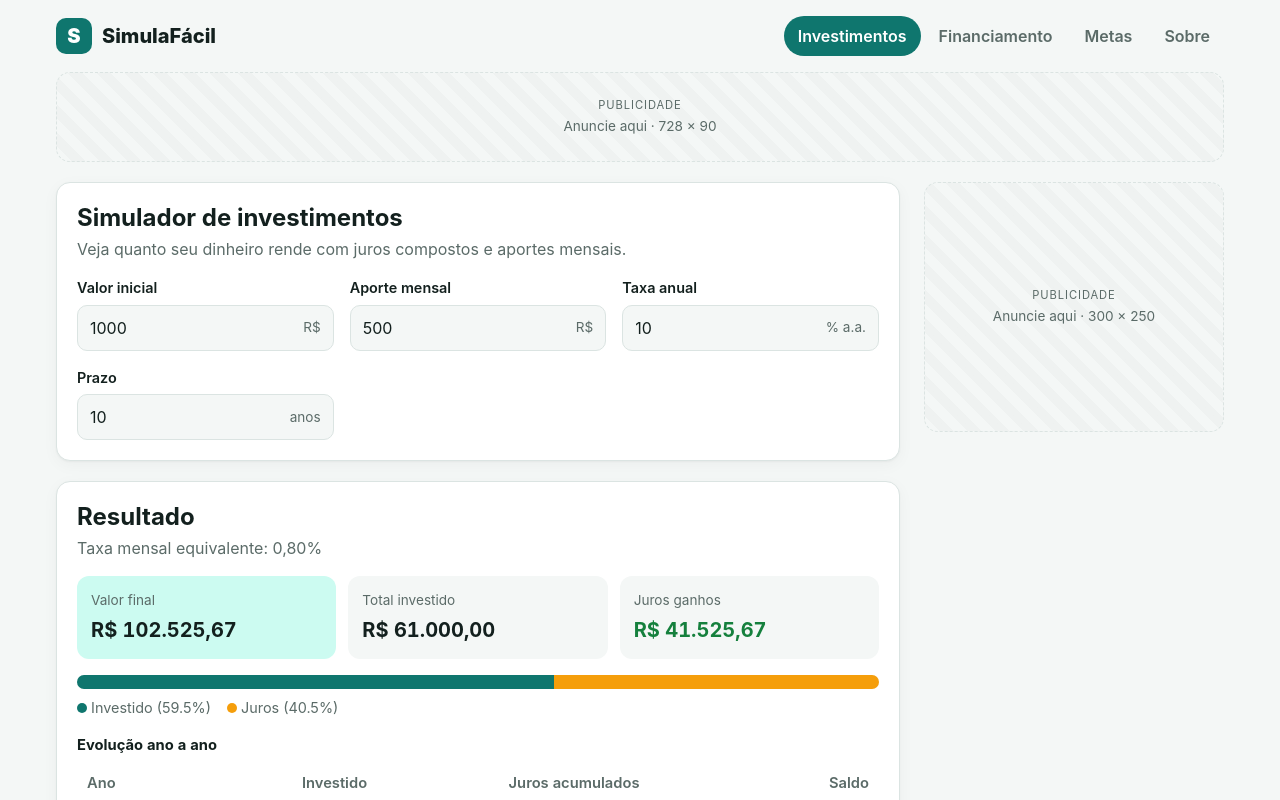
it: Simulador de investimentos › mostra erro e esconde o resultado com entrada inválida
Clear the field labelled "Prazo" at (178, 417), box left=78, top=395, right=278, bottom=439
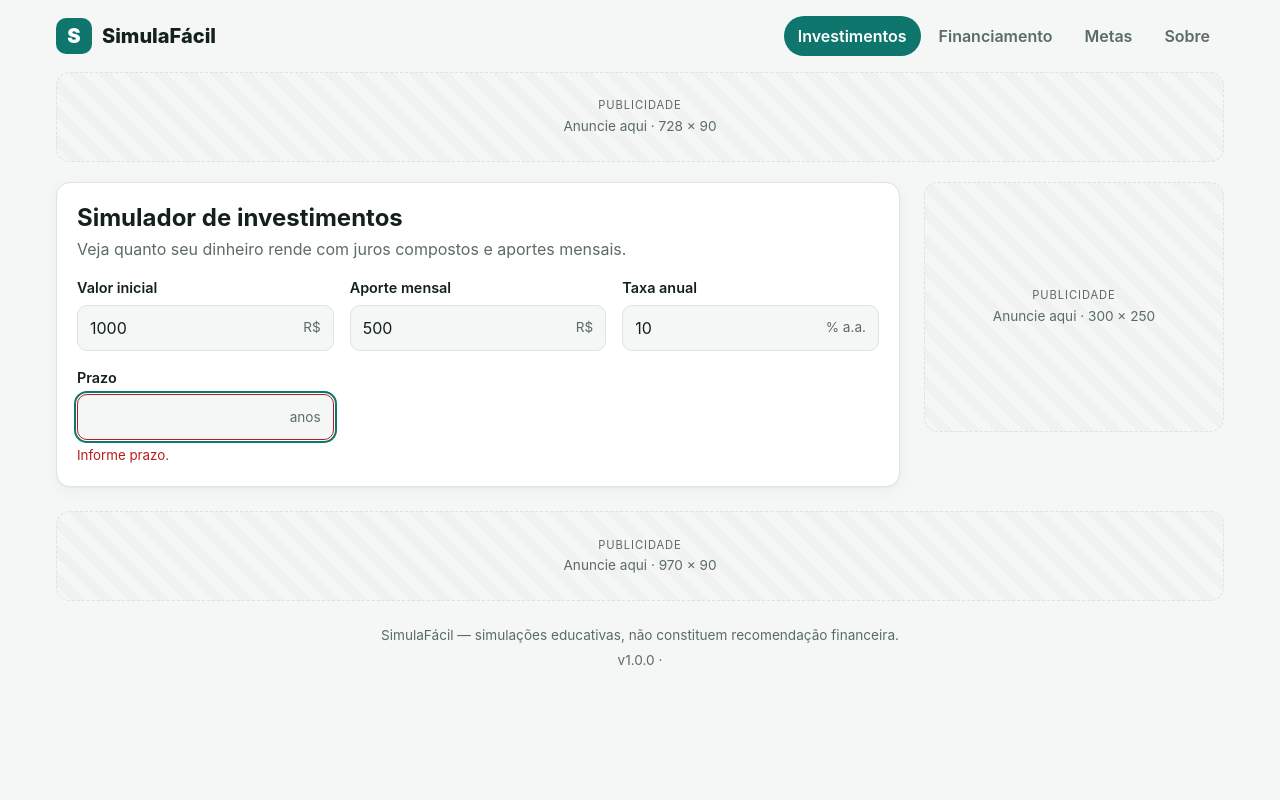
Expected: the message reads "Informe prazo.", left=77, top=447, right=169, bottom=463
Expected: the text with test id "inv-final" is gone
